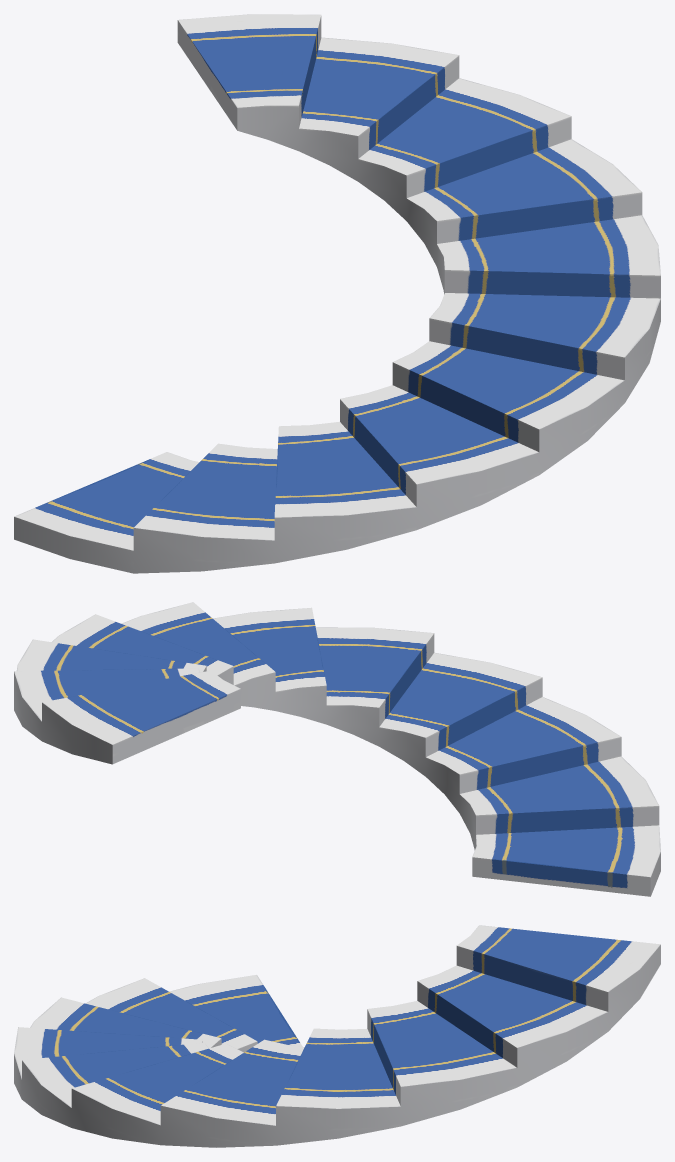
Rendered from Spiralstairs.FBX.
3 views of the same model, one above another, from view 1: azimuth 30°, elevation 25°; view 2: azimuth 150°, elevation 25°; view 3: azimuth 270°, elevation 25° (orthographic). The views are drawn at different scales.
Parts seen in each view (by area): view 1: SpiralStairs; view 2: SpiralStairs; view 3: SpiralStairs.
Boxes of the visible parts, <box> form: SpiralStairs: <box>14,14,660,573</box>; SpiralStairs: <box>14,602,660,896</box>; SpiralStairs: <box>14,925,660,1147</box>.
Size of the model in its own units: 407 by 152 by 408.
